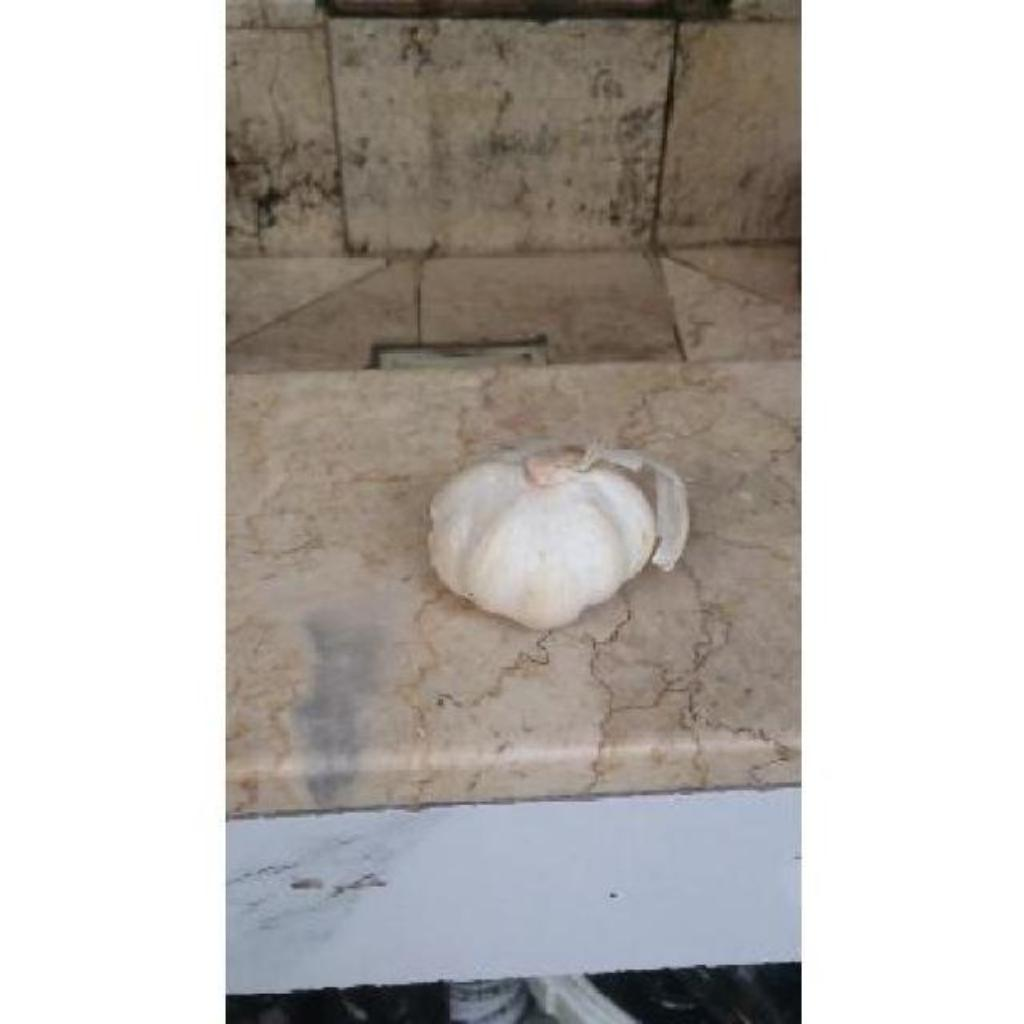garlic: (428, 446, 688, 629)
